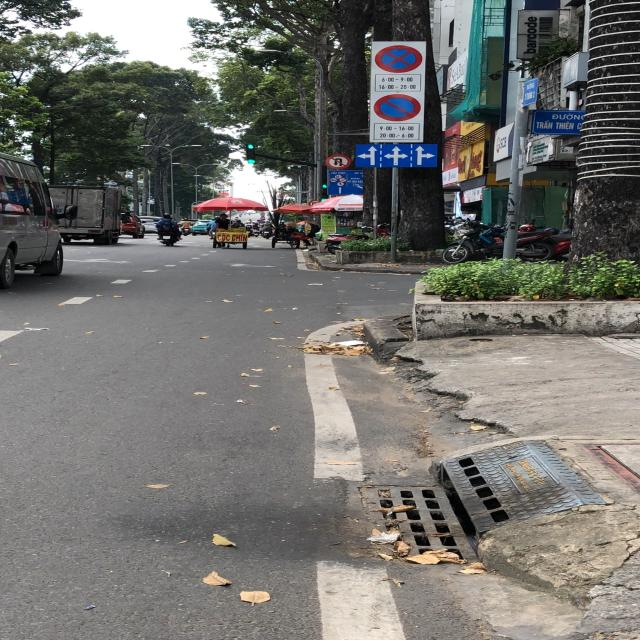Bien bao cam do xe: (372, 93, 425, 124)
Bien bao cam dung xe va do xe: (372, 44, 431, 76)
Bien bao cam quay dau xe: (323, 153, 349, 170)
